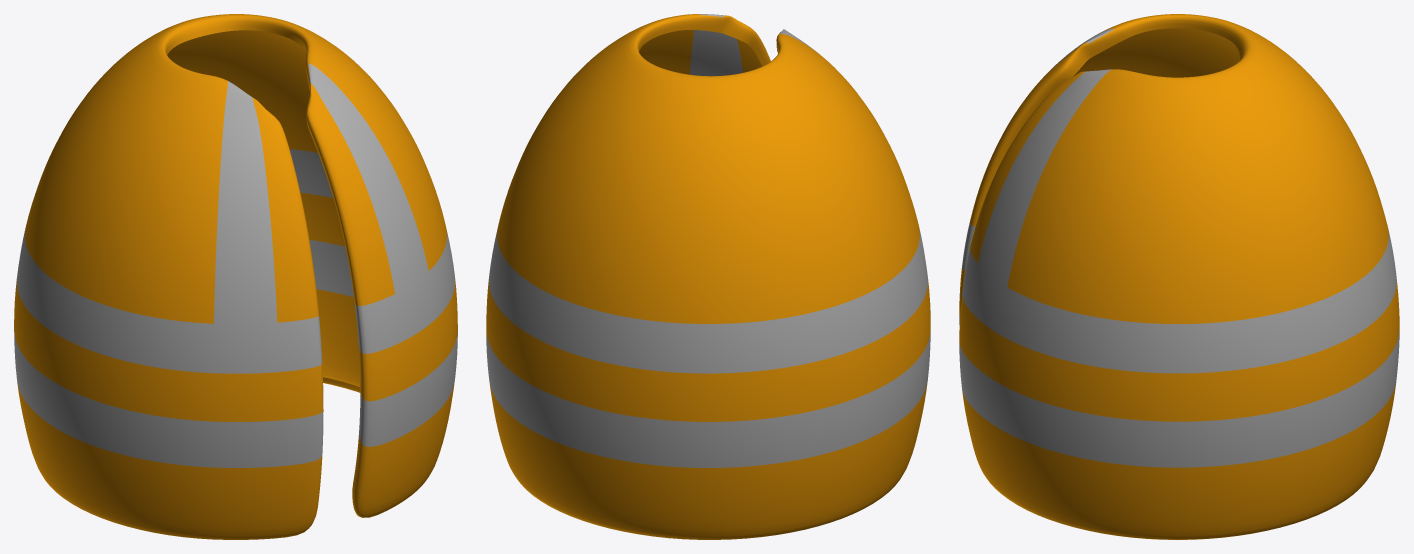
Rendered from Male_High_Vis.fbx.
3 views of the same model, side by side, from view 1: azimuth 30°, elevation 25°; view 2: azimuth 150°, elevation 25°; view 3: azimuth 270°, elevation 25° (orthographic).
Visible parts, largest first — view 1: Male_HighVis_Smooth; view 2: Male_HighVis_Smooth; view 3: Male_HighVis_Smooth.
Part boxes in pixels (x1=…): Male_HighVis_Smooth: x1=14, y1=14, x2=457, y2=539; Male_HighVis_Smooth: x1=486, y1=14, x2=930, y2=539; Male_HighVis_Smooth: x1=959, y1=14, x2=1399, y2=539.
Bounding box in the file's own units: 2 × 2.05 × 1.99.
